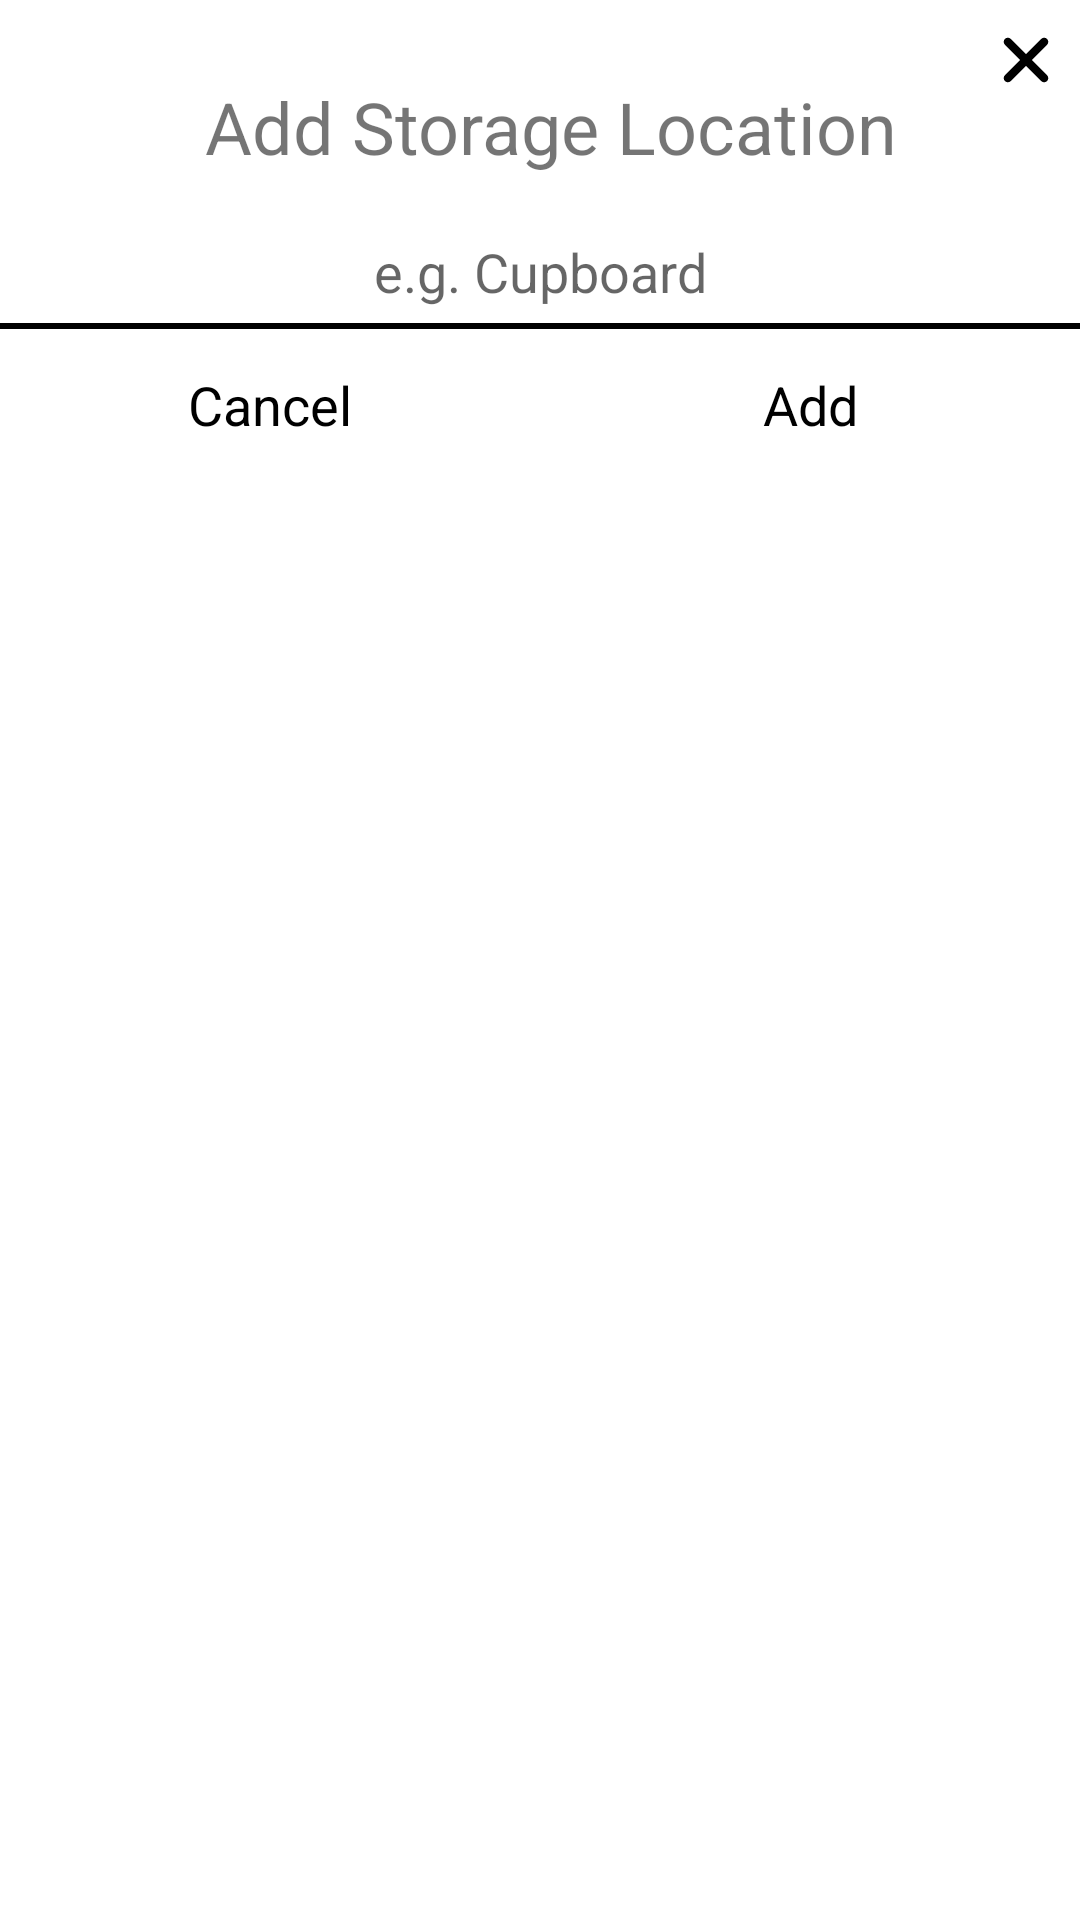

Screen size 1080x1920. Icon name, then its box in pixels as (x1, y1, x2, y2):
close: (1003, 37, 1049, 83)
